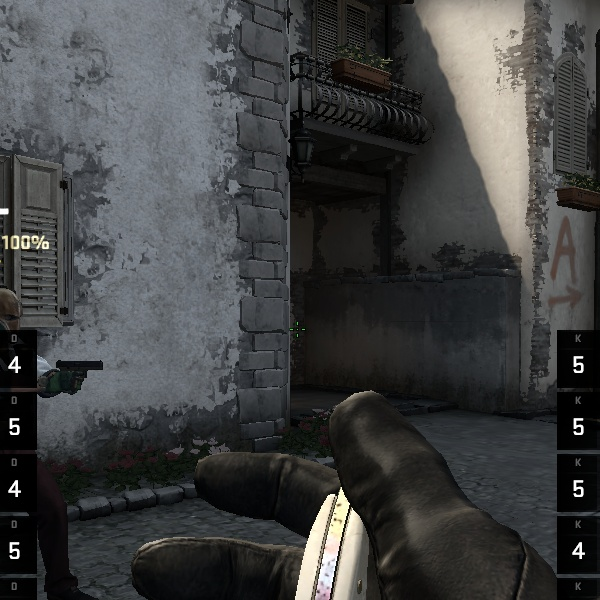t_head: (0, 278, 33, 349)
